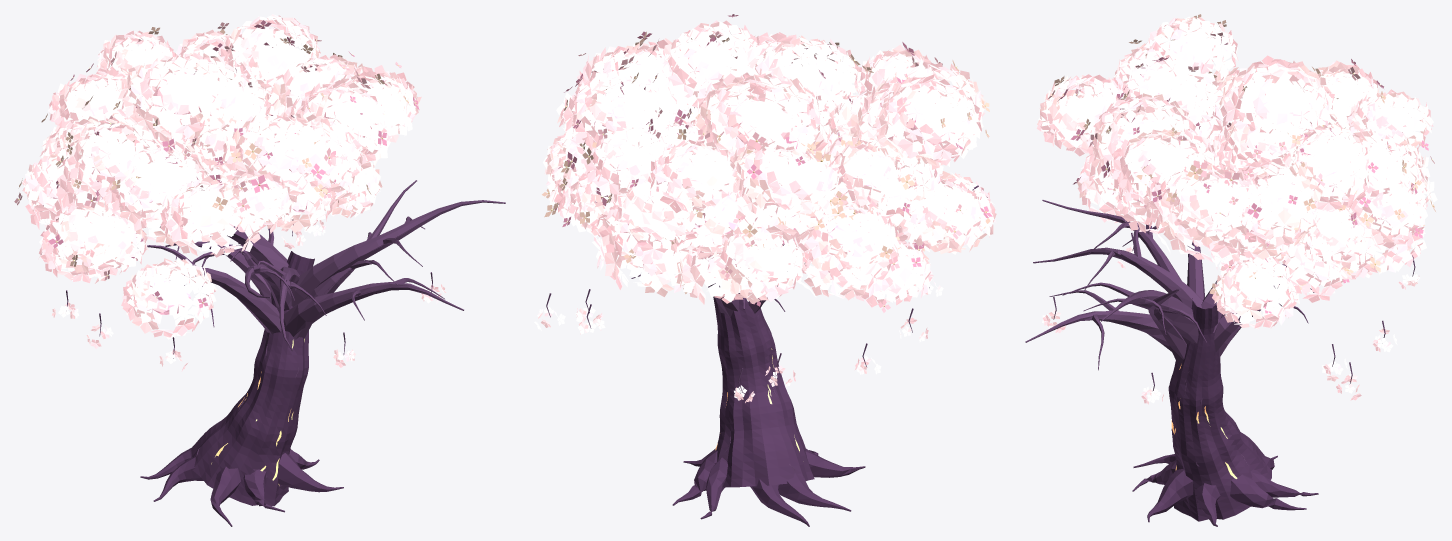
File: sakura_hero_r17_eco.glb
3 renders of one model, left to right at view 1: azimuth 30°, elevation 25°; view 2: azimuth 150°, elevation 25°; view 3: azimuth 270°, elevation 25°, orthographic. The views are drawn at different scales.
Visible parts, largest first — view 1: Sakura_petal_pink, Sakura_petal_blush, Sakura_petal_warm_rose, Trunk_bark_plumblack, Sakura_petal_cream, Branches_plum, R17_Lush_Additional_Crown_eco, Canopy_peach; view 2: Sakura_petal_blush, Sakura_petal_pink, Sakura_petal_warm_rose, Sakura_petal_cream, Trunk_bark_plumblack, R17_Lush_Additional_Crown_eco, Canopy_peach, Branches_plum; view 3: Sakura_petal_pink, Sakura_petal_blush, Sakura_petal_warm_rose, Trunk_bark_plumblack, Sakura_petal_cream, Branches_plum, R17_Lush_Additional_Crown_eco, Canopy_peach.
Boxes of the visible parts, x1,y1,x2,y2 form: Sakura_petal_pink: [24, 17, 441, 371]; Sakura_petal_blush: [22, 14, 446, 366]; Sakura_petal_warm_rose: [25, 15, 416, 336]; Trunk_bark_plumblack: [140, 225, 417, 526]; Sakura_petal_cream: [29, 15, 410, 339]; Branches_plum: [66, 180, 505, 456]; R17_Lush_Additional_Crown_eco: [14, 20, 419, 307]; Canopy_peach: [84, 55, 393, 233]; Sakura_petal_blush: [537, 21, 996, 402]; Sakura_petal_pink: [534, 20, 996, 401]; Sakura_petal_warm_rose: [551, 24, 989, 308]; Sakura_petal_cream: [546, 28, 994, 301]; Trunk_bark_plumblack: [672, 293, 865, 526]; R17_Lush_Additional_Crown_eco: [542, 14, 992, 312]; Canopy_peach: [576, 46, 956, 281]; Branches_plum: [546, 185, 978, 471]; Sakura_petal_pink: [1036, 17, 1433, 404]; Sakura_petal_blush: [1039, 16, 1437, 403]; Sakura_petal_warm_rose: [1051, 22, 1431, 327]; Trunk_bark_plumblack: [1132, 298, 1318, 526]; Sakura_petal_cream: [1037, 16, 1430, 323]; Branches_plum: [1025, 200, 1415, 466]; R17_Lush_Additional_Crown_eco: [1048, 14, 1435, 315]; Canopy_peach: [1073, 35, 1405, 310].
Size of the model in its own units: 26.21 by 25.89 by 22.96.
